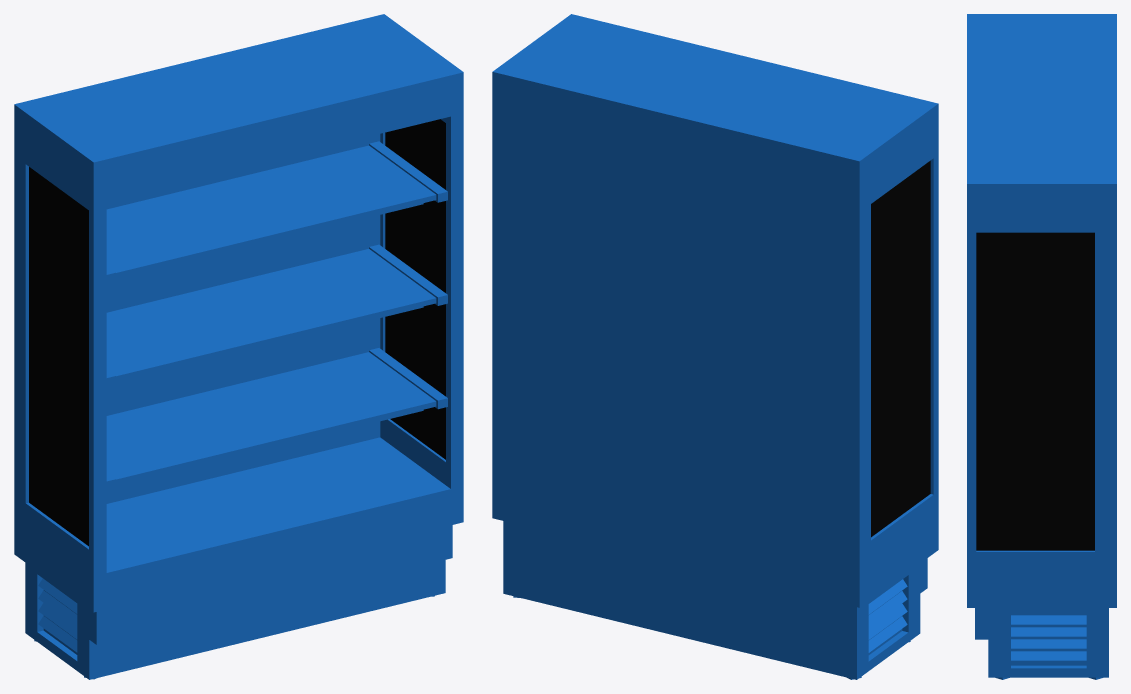
The model's file is SM_refrigerator.fbx.
The picture shows the model from 3 angles, left to right: view 1: azimuth 30°, elevation 25°; view 2: azimuth 150°, elevation 25°; view 3: azimuth 270°, elevation 25°; orthographic projection. The views are drawn at different scales.
Parts seen in each view (by area): view 1: Cube_11; view 2: Cube_11; view 3: Cube_11.
Boxes of the visible parts, x1,y1,x2,y2 form: Cube_11: [14, 14, 463, 679]; Cube_11: [492, 14, 938, 679]; Cube_11: [967, 14, 1116, 679].
Size of the model in its own units: 150 by 206 by 55.87.
